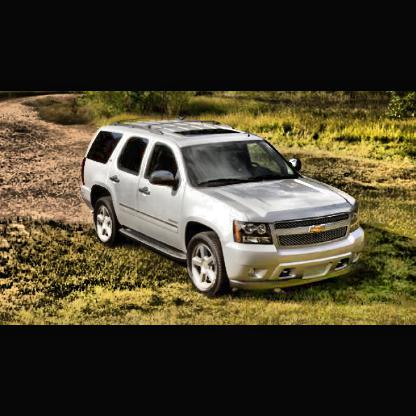Chevrolet Tahoe Hybrid SUV 2012: (82, 117, 369, 297)
